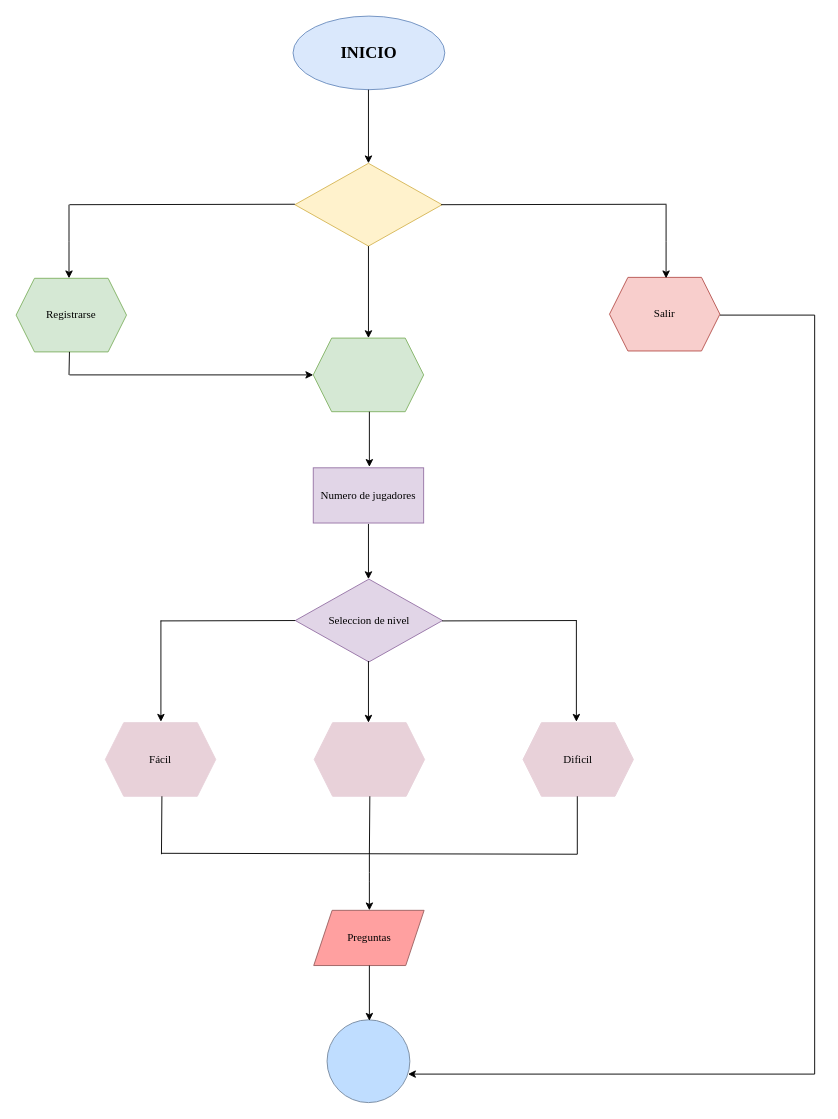
Image size: 838x1119. Some labels were removed from this diagram. The shapes that lost their labels are listed below. From the top down, each one's centre as x and y in pixels, then its label:
At (368,204): "Menu".
At (368,374): "Iniciar sesion".
At (369,759): "Medio".
At (368,1061): "Fin Programa".
